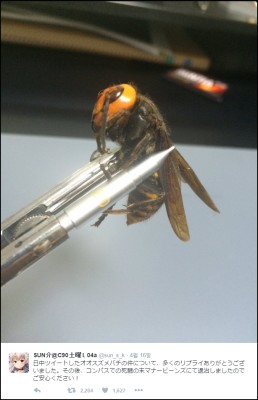asian_giant_hornet: (90, 80, 184, 226)
